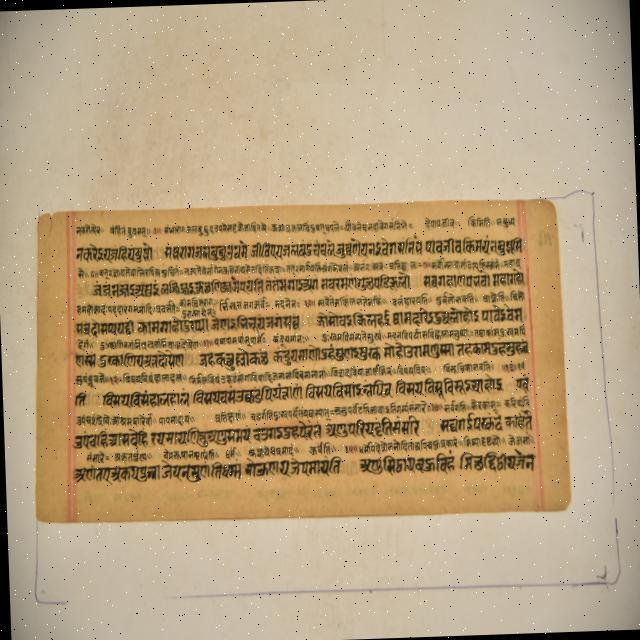text_paragraph: (33, 198, 568, 517)
